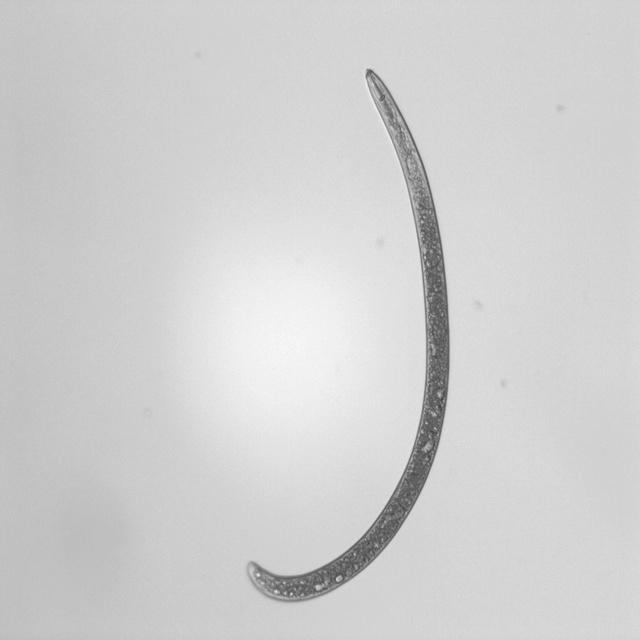Helicotylenchus: (238, 67, 458, 601)
